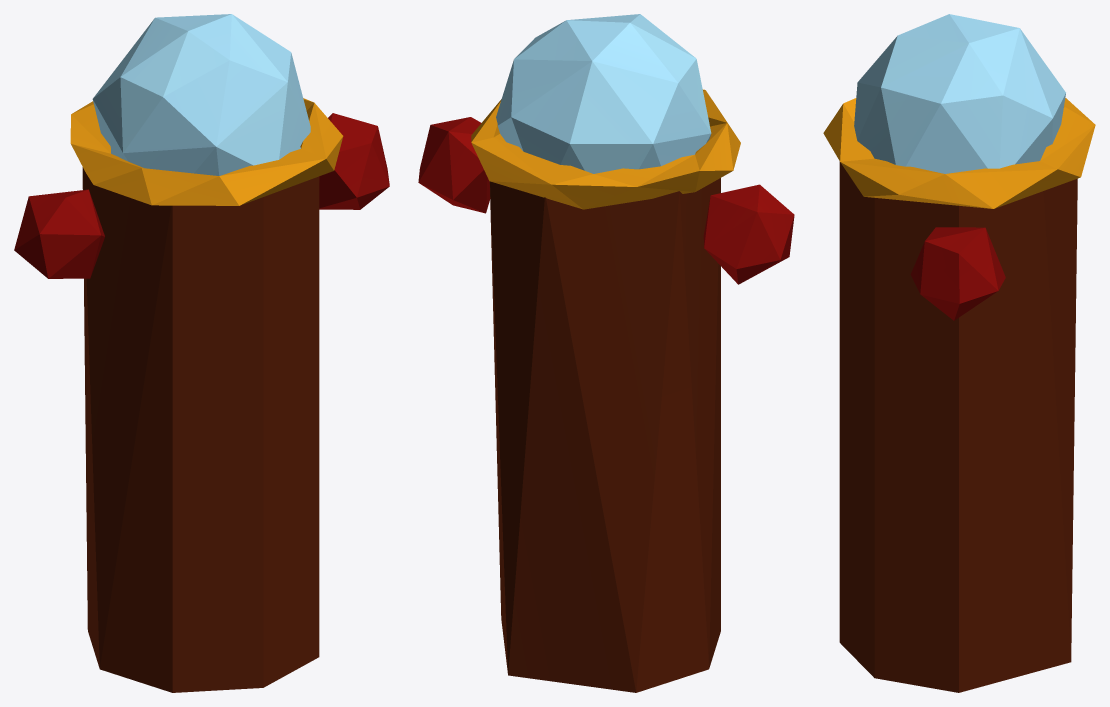
Rendered from upgrade_brass_compass.three-web-toon.lod25.glb.
3 views of the same model, side by side, from view 1: azimuth 30°, elevation 25°; view 2: azimuth 150°, elevation 25°; view 3: azimuth 270°, elevation 25° (orthographic).
Parts seen in each view (by area): view 1: upgrade_brass_compass_mesh_lod; view 2: upgrade_brass_compass_mesh_lod; view 3: upgrade_brass_compass_mesh_lod.
Part boxes in pixels (<box>): upgrade_brass_compass_mesh_lod: <box>14,14,389,692</box>; upgrade_brass_compass_mesh_lod: <box>418,14,794,692</box>; upgrade_brass_compass_mesh_lod: <box>823,14,1095,692</box>.
Bounding box in the file's own units: 0.7777 × 1.26 × 0.5024.
